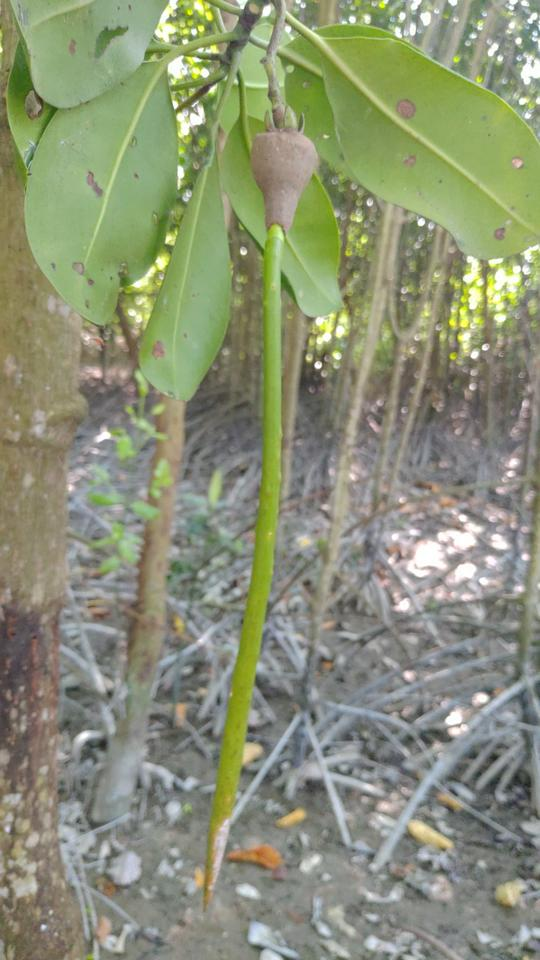setengah matang: (179, 104, 334, 916)
